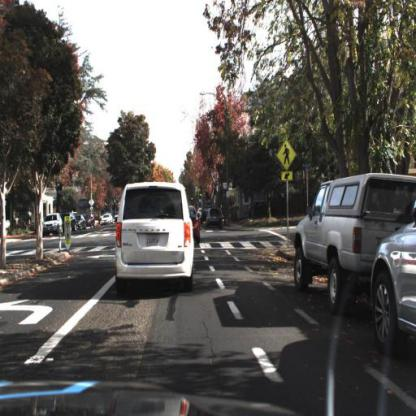car: (293, 170, 416, 319), (113, 180, 198, 297), (368, 184, 416, 364), (185, 204, 203, 250), (41, 213, 64, 238), (248, 198, 271, 222), (206, 205, 226, 229), (58, 212, 76, 237), (208, 207, 223, 230), (83, 213, 97, 231), (98, 214, 116, 227), (101, 212, 115, 228)
pedestrian: (216, 201, 226, 233), (217, 203, 225, 232)
